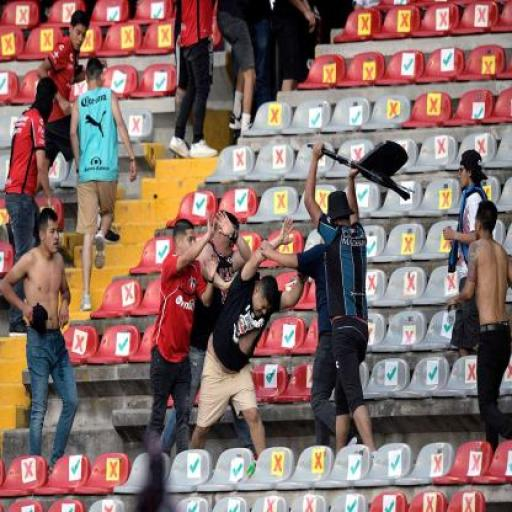Fighting: (150, 140, 414, 457)
